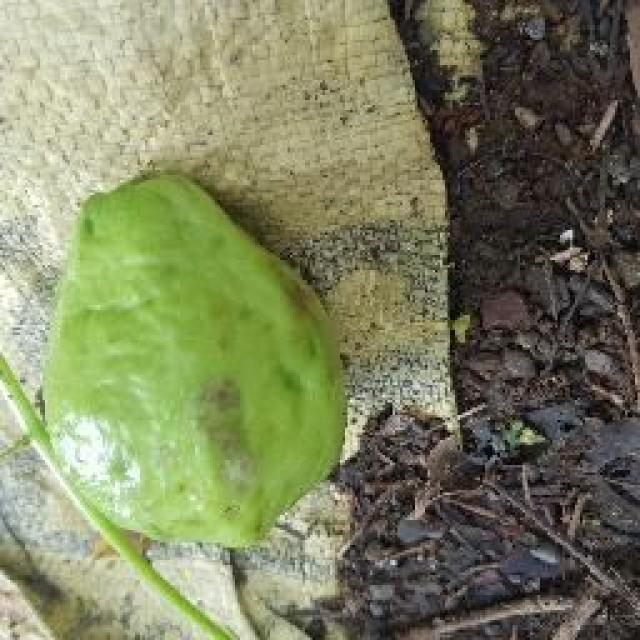Good_Guava: (40, 172, 348, 552)
